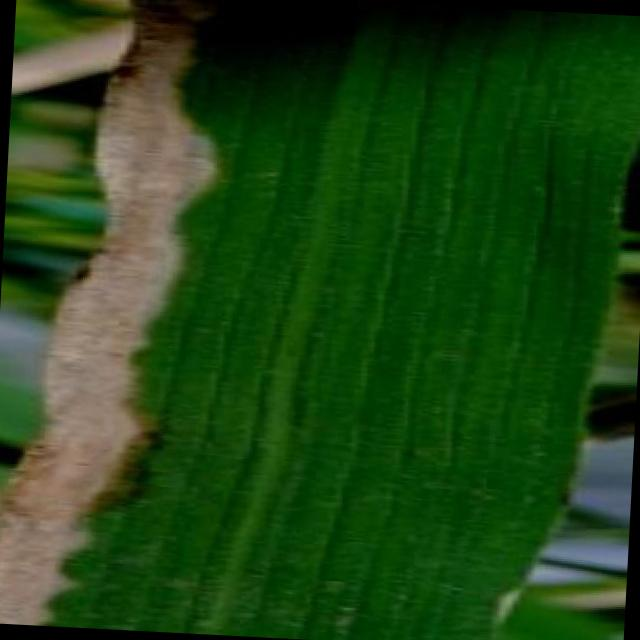Rice_Bacterial_Blight: (40, 0, 366, 639)
